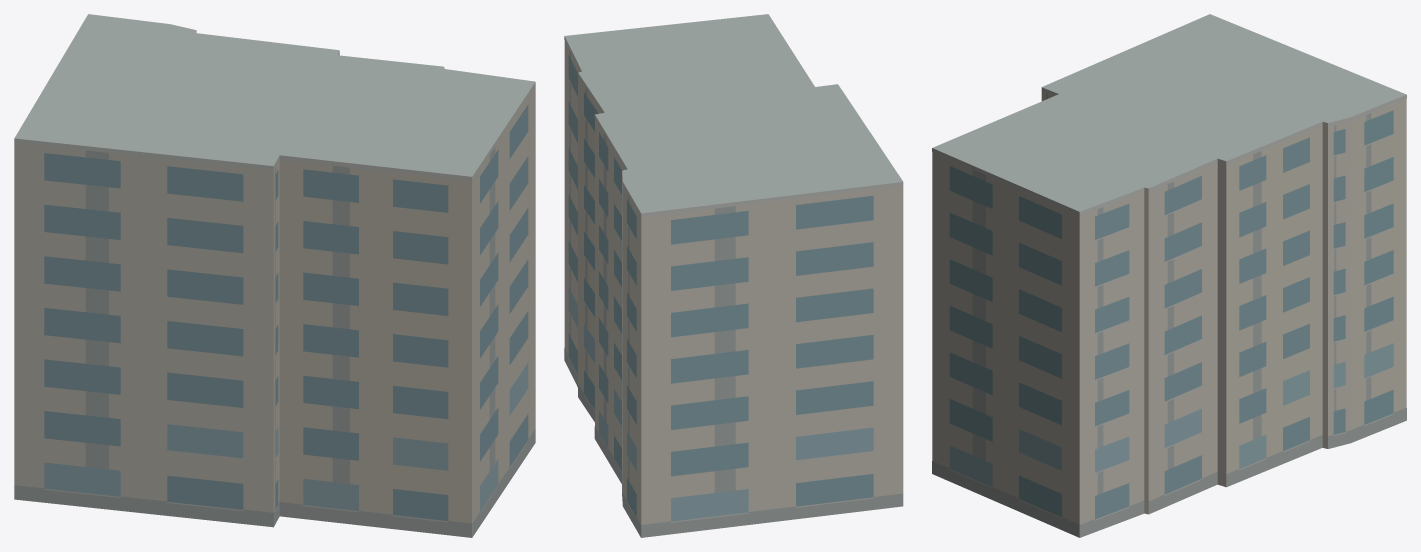
Rendered from survey-upis-32965488.glb.
3 renders of one model, left to right at view 1: azimuth 30°, elevation 25°; view 2: azimuth 150°, elevation 25°; view 3: azimuth 270°, elevation 25°, orthographic. The views are drawn at different scales.
Parts seen in each view (by area): view 1: survey-upis-32965488.tmp; view 2: survey-upis-32965488.tmp; view 3: survey-upis-32965488.tmp.
Boxes of the visible parts, box(x1,y1,x2,y2) form: survey-upis-32965488.tmp: box(14, 14, 535, 537); survey-upis-32965488.tmp: box(564, 14, 903, 537); survey-upis-32965488.tmp: box(932, 14, 1406, 537).
Size of the model in its own units: 25.79 by 19.8 by 26.13.
